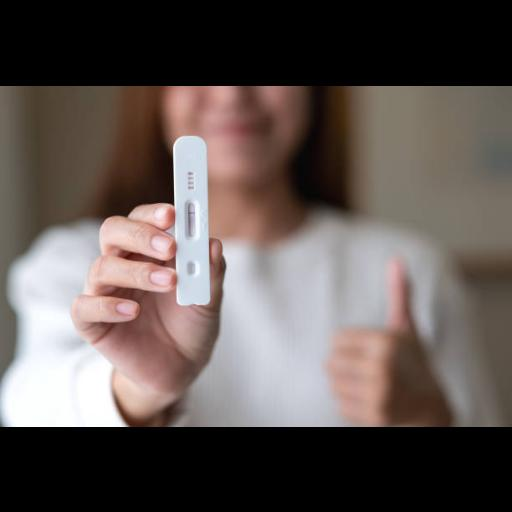Neg: (172, 136, 210, 302)
